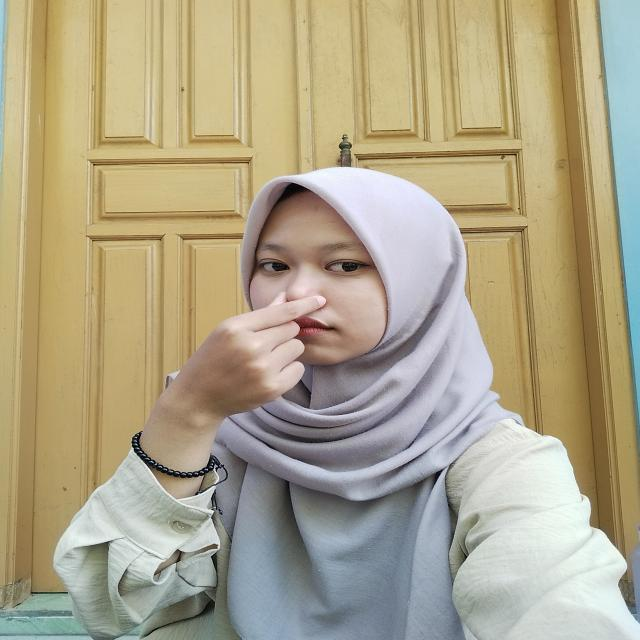bau: (158, 266, 328, 418)
